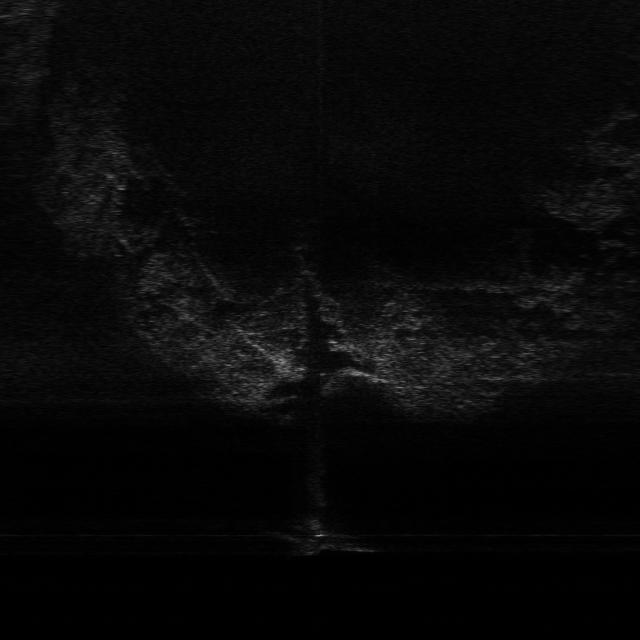plane: (267, 516, 379, 558)
